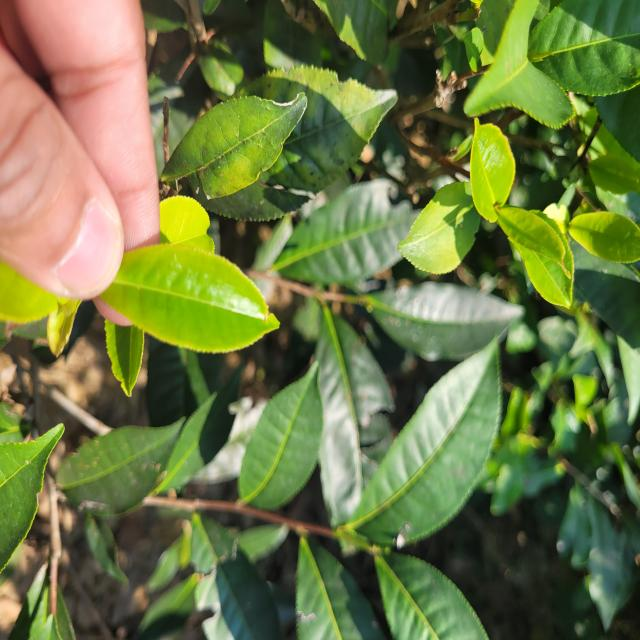Catagory A(1-2 days): (101, 233, 286, 369)
